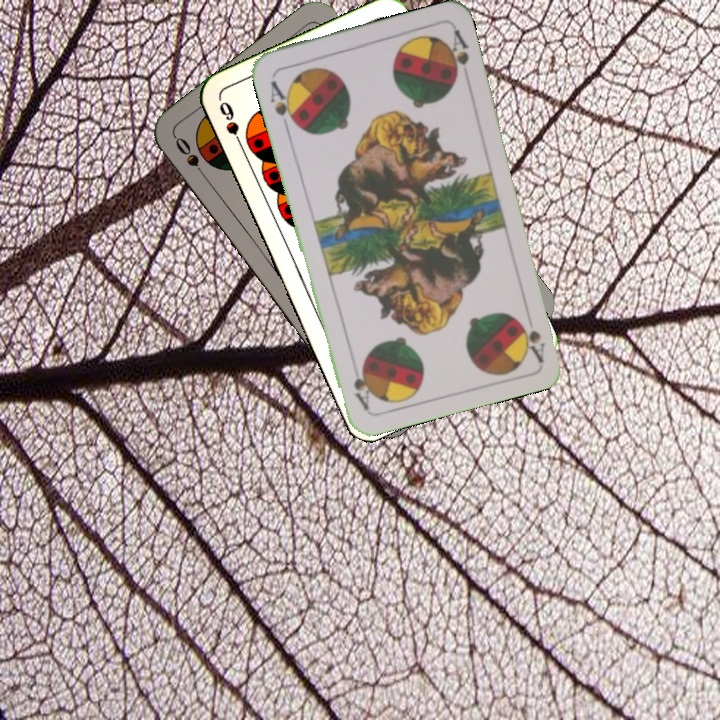S9: (215, 97, 247, 153)
SA: (265, 77, 300, 132), (519, 319, 548, 364)
SO: (171, 133, 212, 184)
